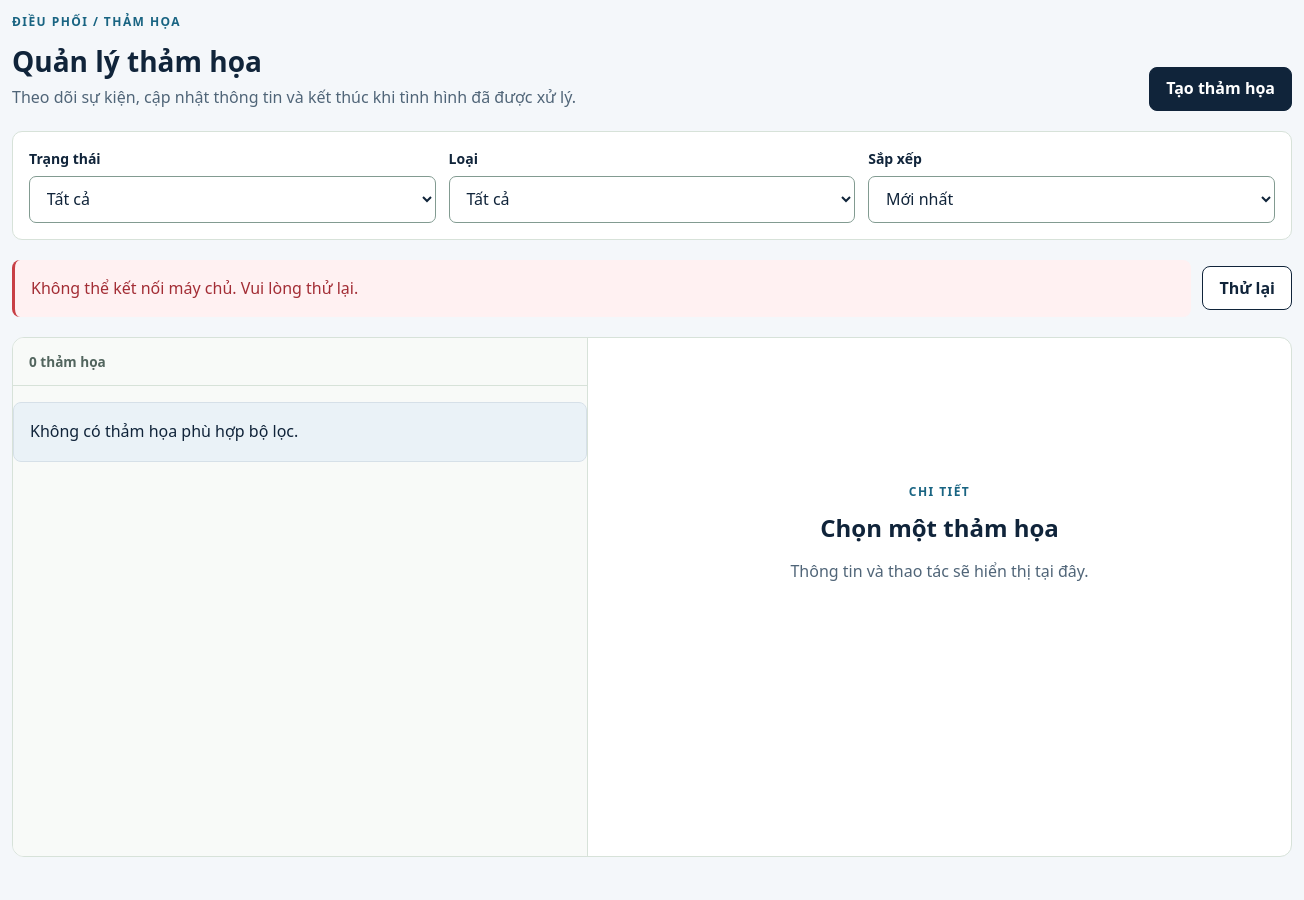
Test: DisasterPage › shows empty and recoverable list errors
Expected: the text "Không có thảm họa phù hợp bộ lọc." is shown, left=13, top=402, right=587, bottom=462
Expected: the message shows "Không thể kết nối", left=31, top=276, right=358, bottom=298
Click the button "Thử lại". click: {"x": 1247, "y": 288}
box: left=1202, top=266, right=1292, bottom=310
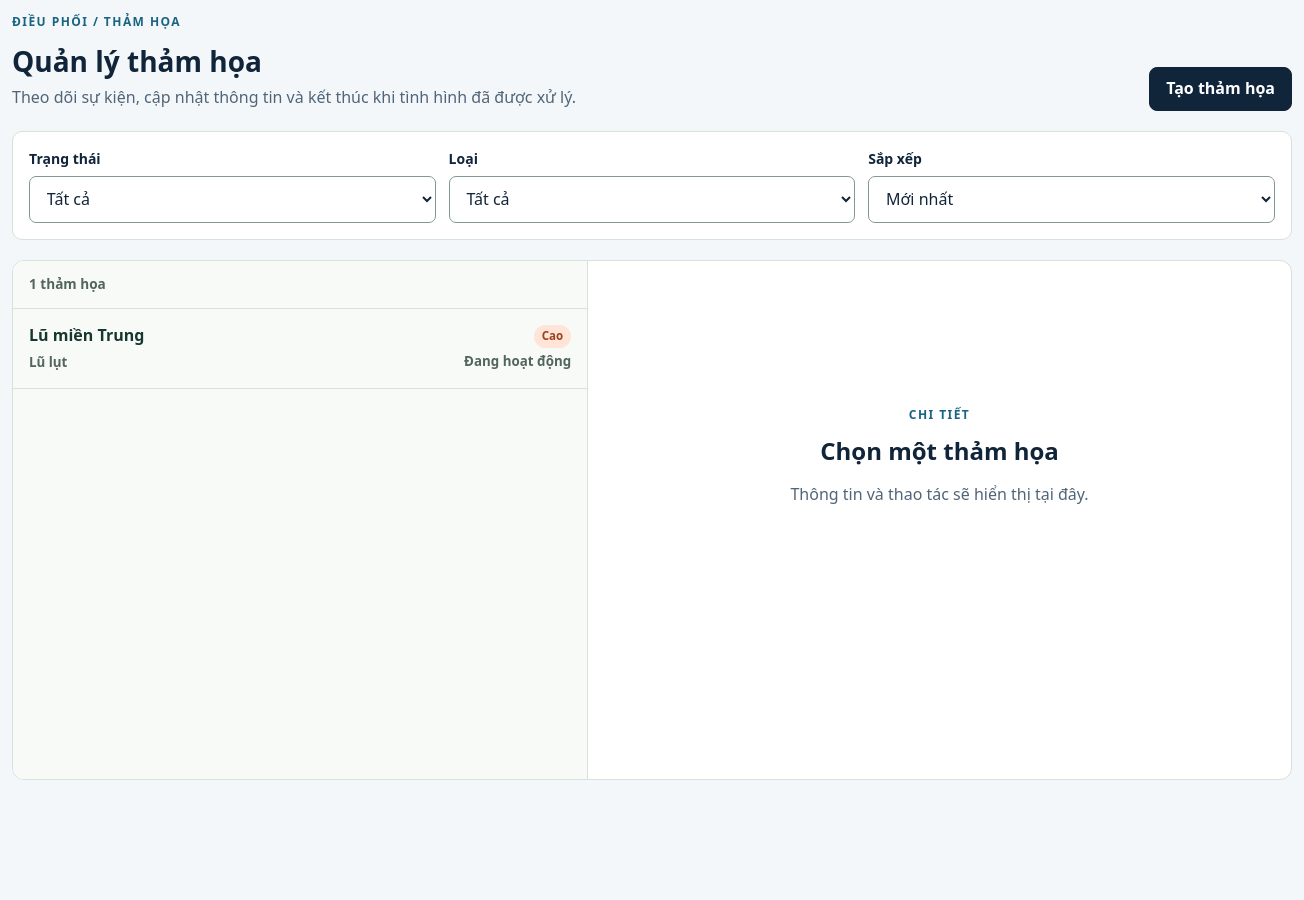
Expected: the text "Lũ miền Trung" is shown, left=29, top=324, right=144, bottom=346
